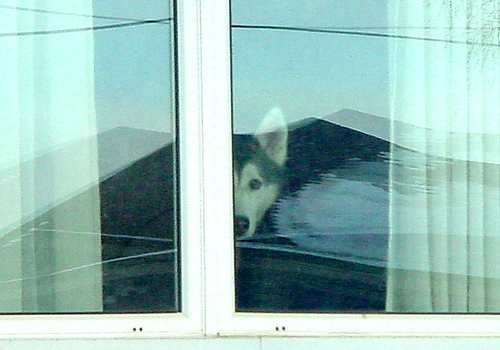dog: (231, 103, 293, 241)
